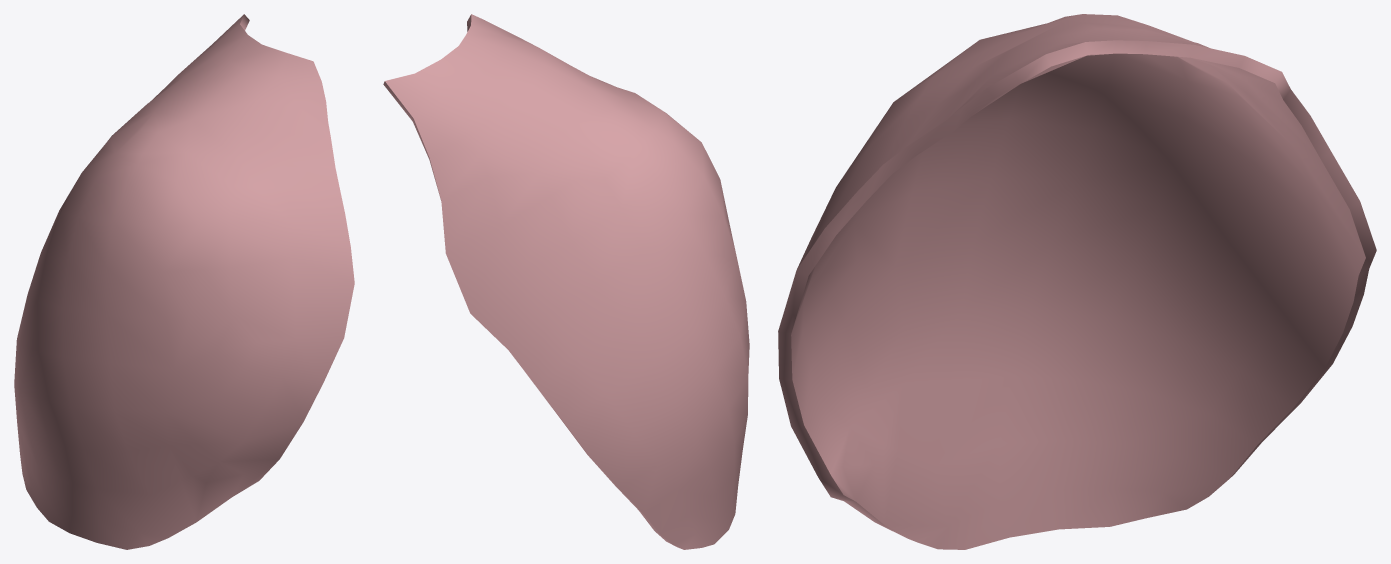
3 views of the same model, side by side, from view 1: azimuth 30°, elevation 25°; view 2: azimuth 150°, elevation 25°; view 3: azimuth 270°, elevation 25° (orthographic). The views are drawn at different scales.
Visible parts, largest first — view 1: ZA_d739074c1bfeae03; view 2: ZA_d739074c1bfeae03; view 3: ZA_d739074c1bfeae03.
Boxes of the visible parts, x1,y1,x2,y2 form: ZA_d739074c1bfeae03: (14, 14, 354, 549); ZA_d739074c1bfeae03: (383, 14, 749, 549); ZA_d739074c1bfeae03: (778, 14, 1376, 549).
Bounding box in the file's own units: 0.1082 × 0.1628 × 0.1338.
